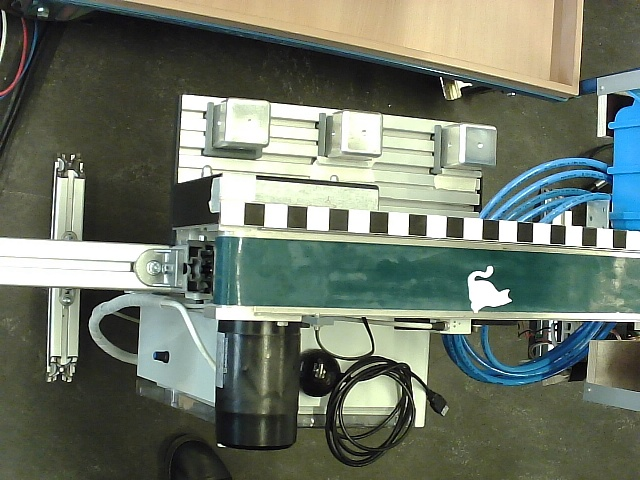cat: (467, 266, 513, 314)
